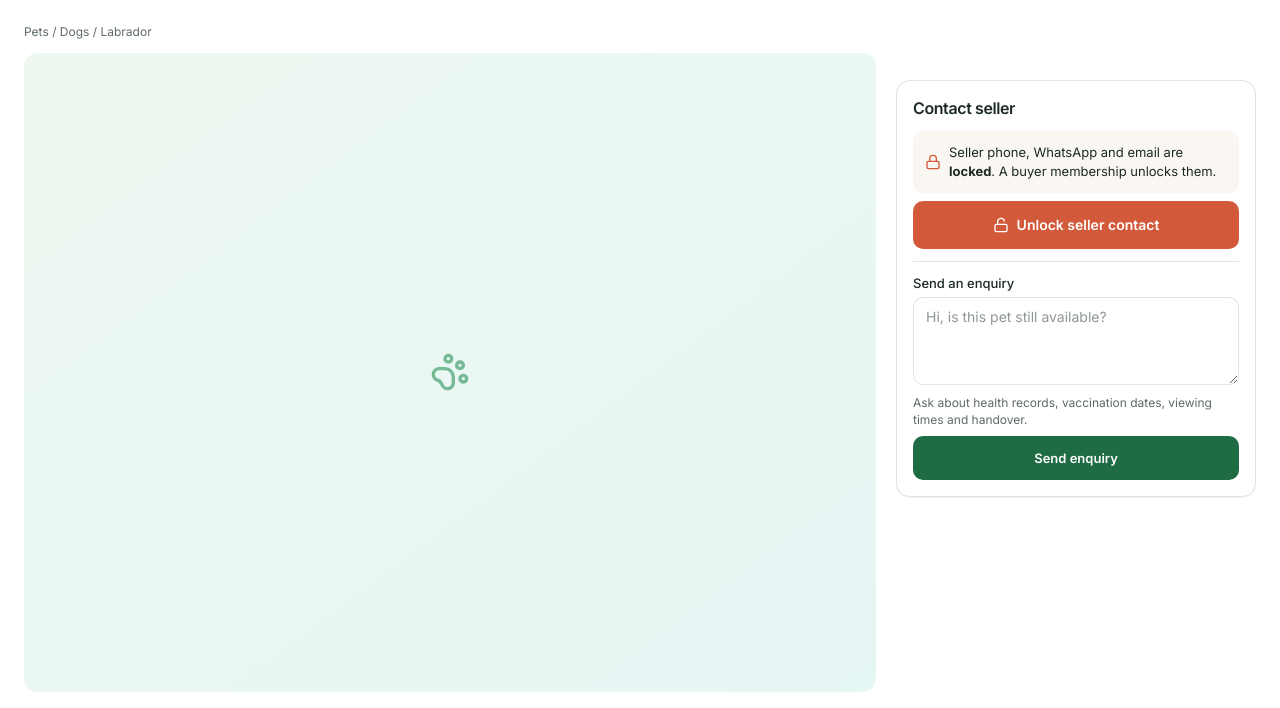
Test case: pet detail: contact locking › unverified email → prompts to verify instead of showing contact
This screenshot has width=1280, height=708.
Click the button "Unlock seller contact" at (1076, 225), box [913, 201, 1239, 249]
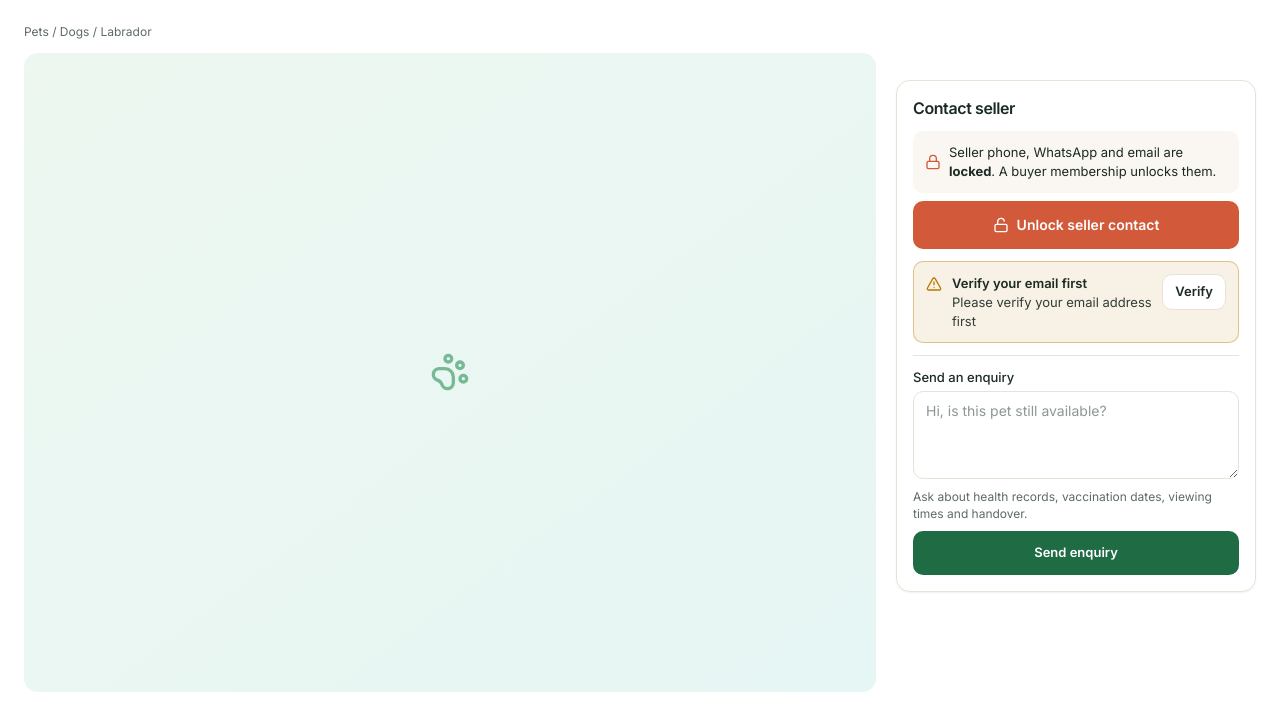
expect the text "Verify your email first" is shown: met, box [952, 275, 1087, 291]
